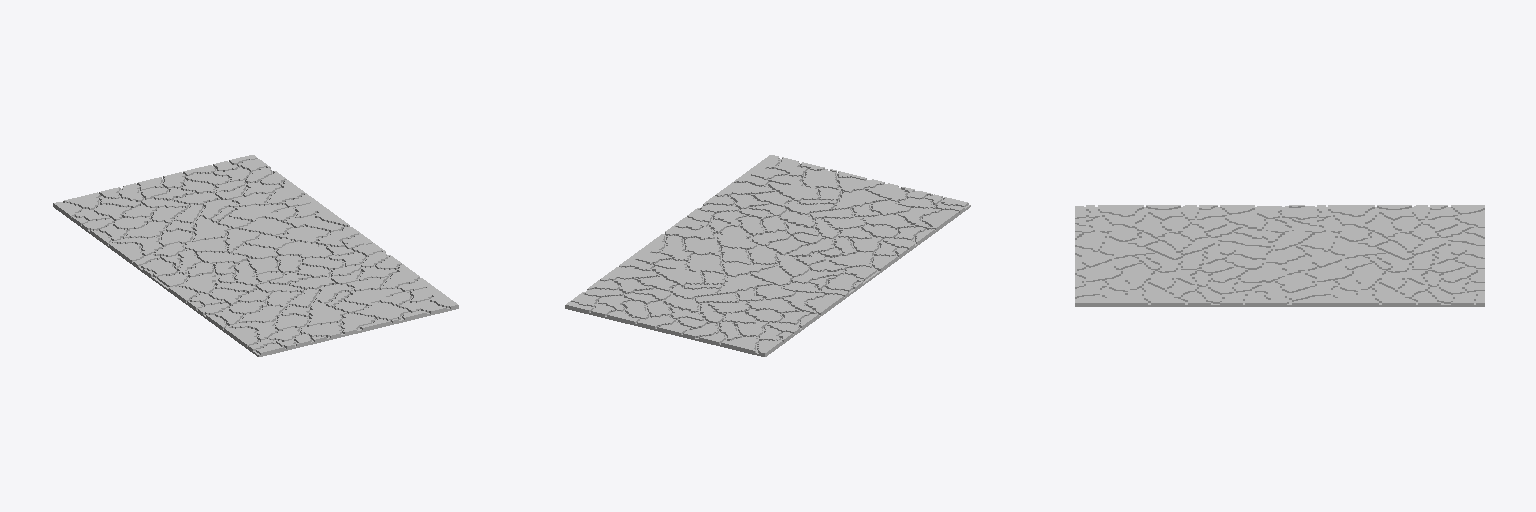
Rendered from terribleflagstones.obj.
3 renders of one model, left to right at view 1: azimuth 30°, elevation 25°; view 2: azimuth 150°, elevation 25°; view 3: azimuth 270°, elevation 25°, orthographic.
Parts seen in each view (by area): view 1: object 1; view 2: object 1; view 3: object 1.
Boxes of the visible parts, x1,y1,x2,y2 form: object 1: [53, 155, 458, 356]; object 1: [565, 155, 970, 356]; object 1: [1075, 205, 1484, 306].
Bounding box in the file's own units: 10 × 0.2 × 17.8.